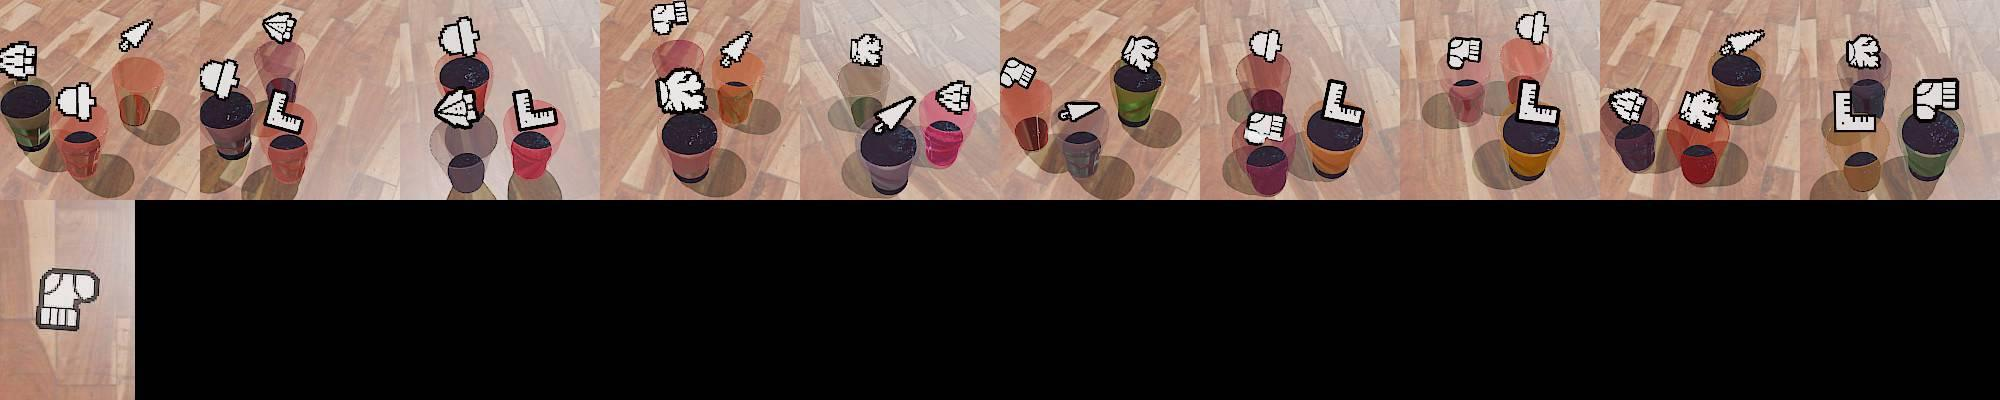icon: (36, 268, 102, 330), (656, 66, 709, 116), (1513, 76, 1561, 129), (1319, 76, 1365, 127), (261, 83, 305, 135), (513, 87, 559, 132), (434, 85, 482, 127), (1833, 88, 1878, 132), (1912, 78, 1960, 118), (1676, 88, 1721, 131), (871, 94, 918, 135), (437, 15, 481, 57), (199, 57, 241, 99), (56, 80, 98, 122), (1242, 110, 1287, 145), (0, 41, 40, 80), (1120, 34, 1159, 71), (1608, 87, 1648, 124), (651, 0, 691, 36), (935, 78, 973, 115), (718, 31, 754, 68), (1721, 28, 1765, 57), (1247, 28, 1283, 64), (1844, 34, 1880, 70), (1446, 36, 1482, 70), (1515, 10, 1550, 46), (1000, 56, 1037, 89), (261, 10, 297, 43), (849, 32, 883, 66), (119, 19, 153, 52), (1057, 99, 1101, 122)
